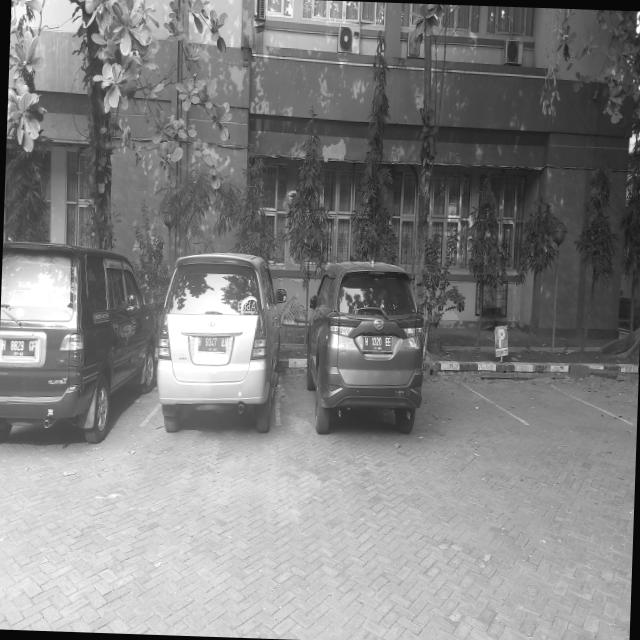car: (0, 240, 156, 446), (278, 264, 423, 433), (143, 252, 280, 425)
free: (452, 377, 632, 425), (421, 377, 528, 437)
